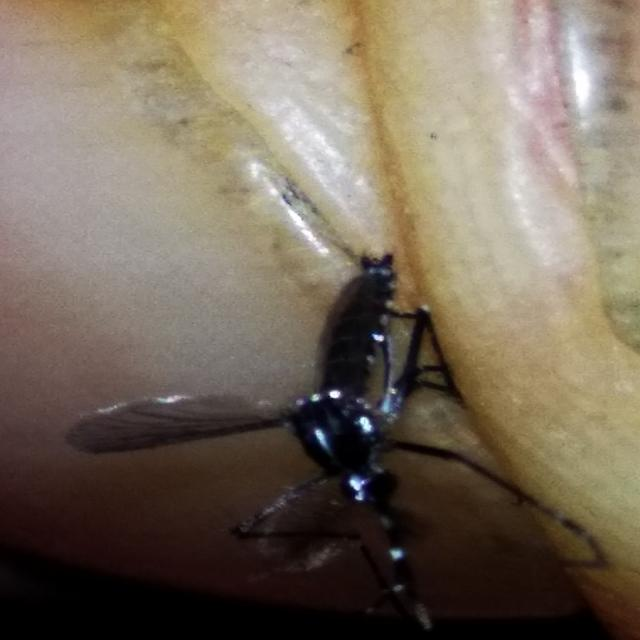albopictus: (111, 234, 569, 582)
